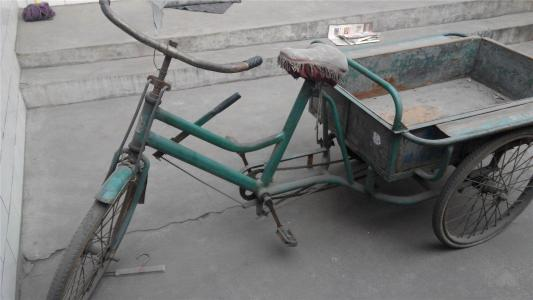tricycle: (33, 20, 525, 292)
